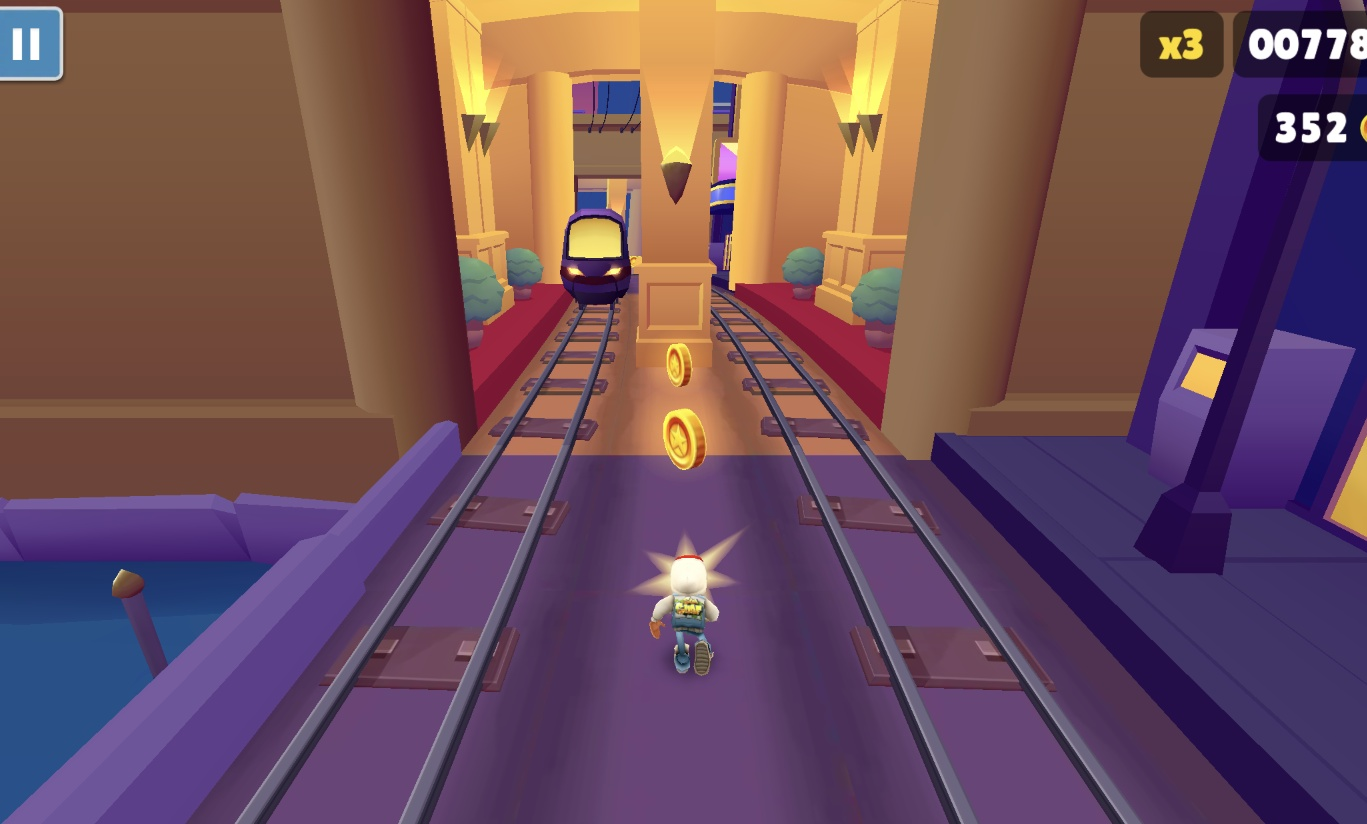pillar: (630, 0, 717, 369)
train: (558, 207, 632, 308)
